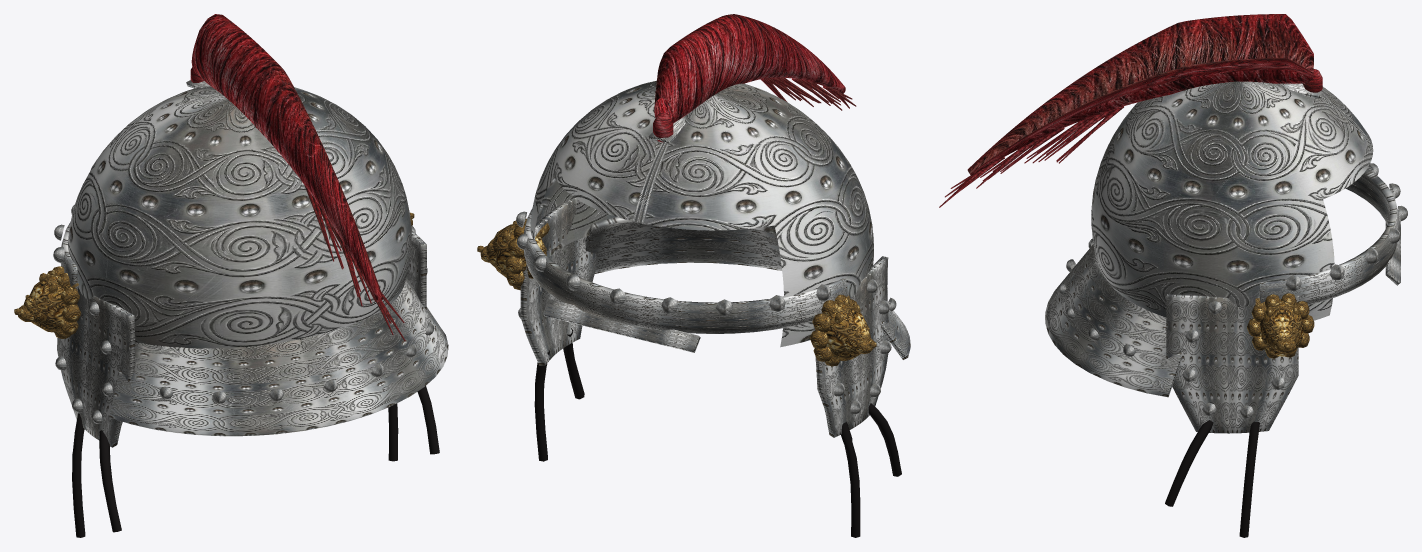
File: CapaceteRomano.obj
The picture shows the model from 3 angles, left to right: view 1: azimuth 30°, elevation 25°; view 2: azimuth 150°, elevation 25°; view 3: azimuth 270°, elevation 25°; orthographic projection. The views are drawn at different scales.
Visible parts, largest first — view 1: steel, hair, leather, gold; view 2: steel, hair, gold, leather; view 3: steel, hair, gold, leather.
Boxes of the visible parts, x1,y1,x2,y2 form: steel: (53,80,448,447); hair: (190,14,405,341); leather: (72,386,439,537); gold: (14,212,414,338); steel: (516,80,910,437); hair: (653,14,856,142); gold: (477,218,876,366); leather: (534,328,901,537); steel: (1045,81,1407,433); hair: (939,14,1322,207); gold: (1247,293,1314,358); leather: (1165,420,1259,537).
Size of the model in its own units: 3.07 by 3.44 by 3.26.
4 materials, 3 textured.
